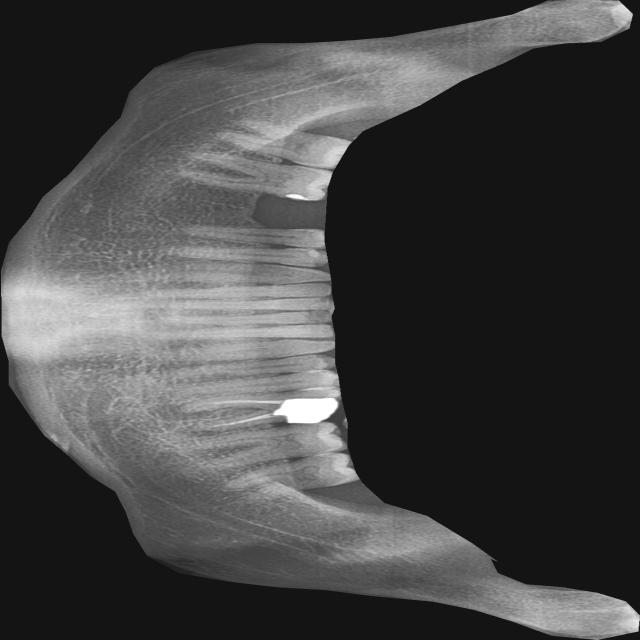mandibula: (0, 0, 639, 640)
